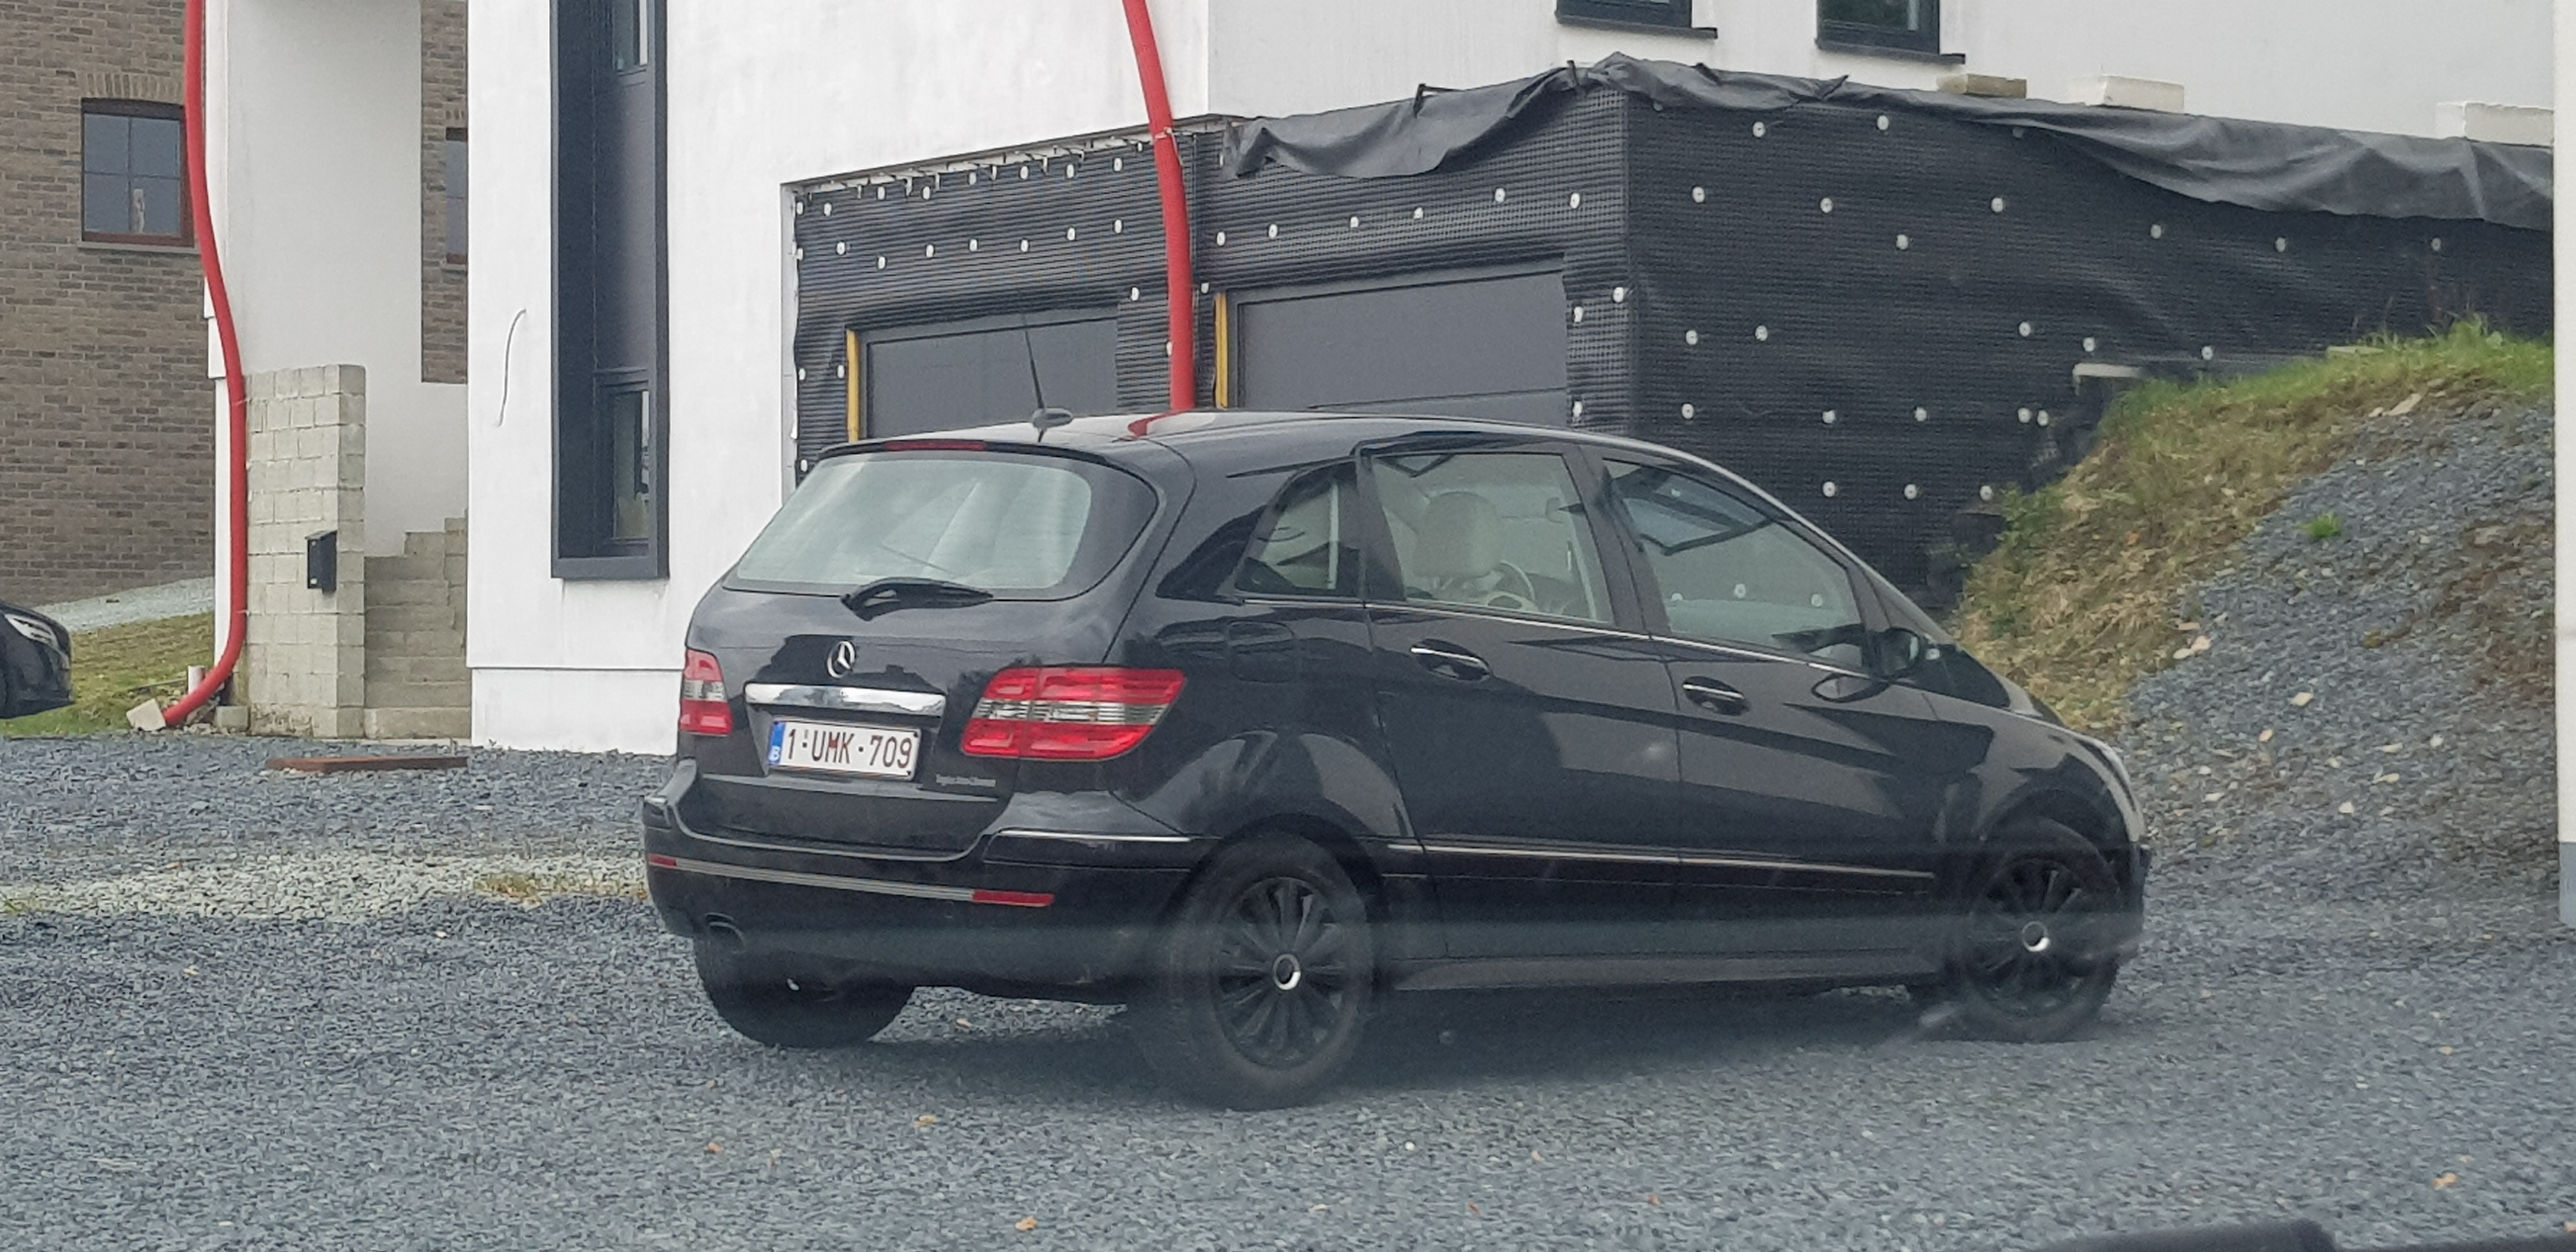licenceplate: (765, 716, 922, 775)
